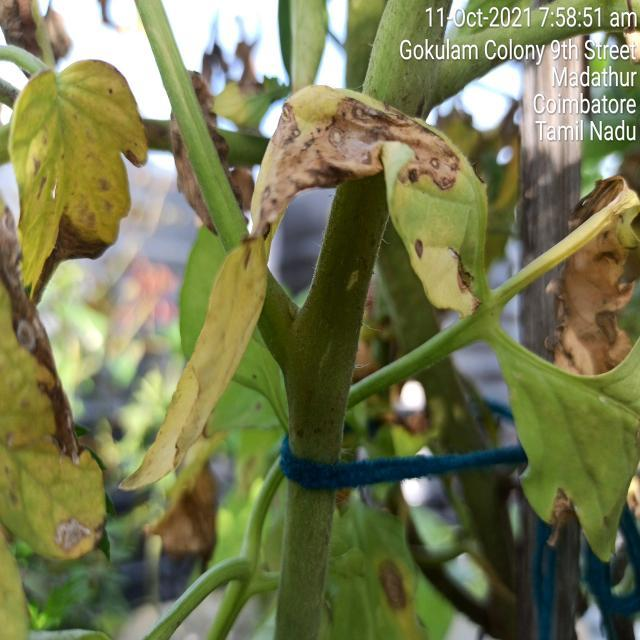Tomato mosaic virus leaf: (247, 80, 486, 322)
